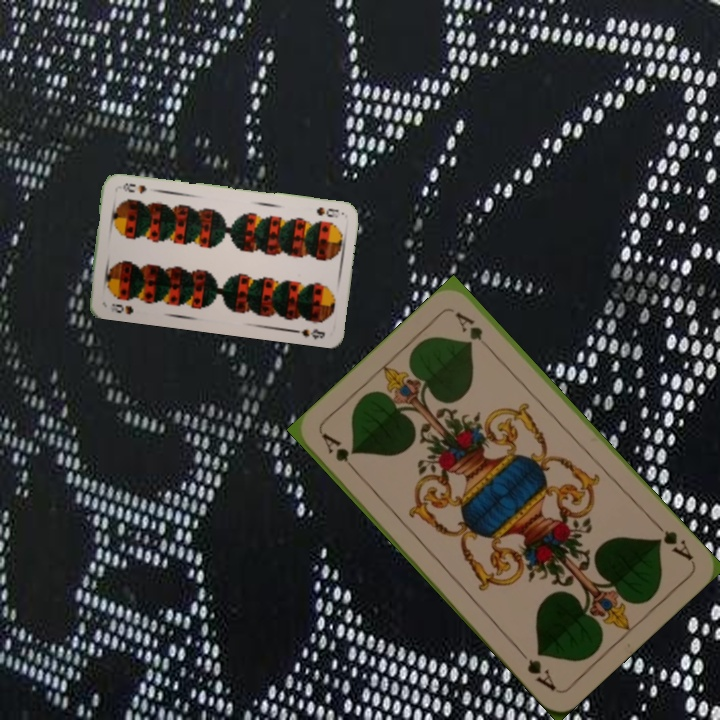GA: (649, 517, 696, 564), (317, 429, 362, 478)
S8: (107, 300, 136, 317), (312, 203, 341, 220)
